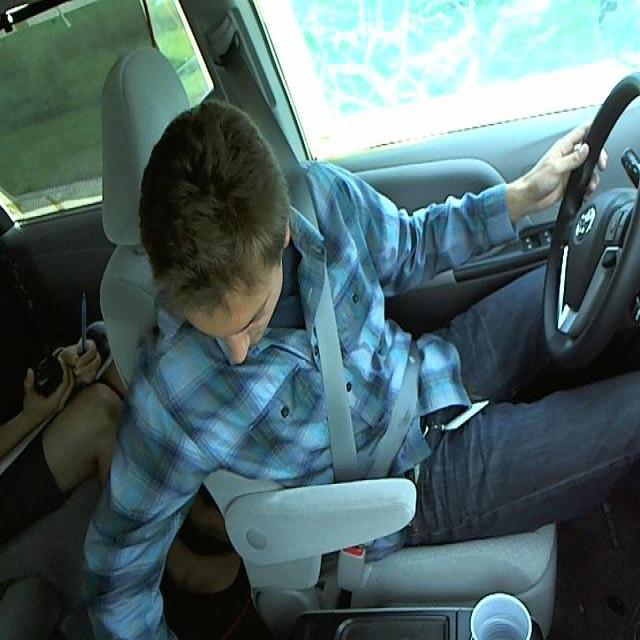seatbelt: (299, 221, 433, 476)
